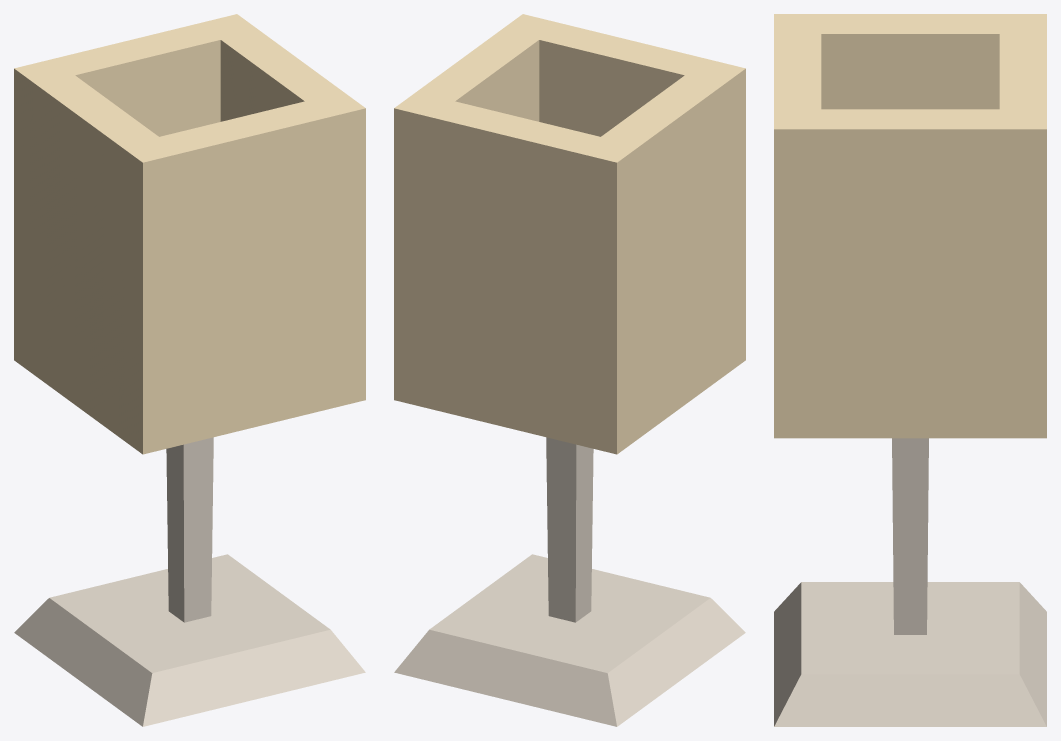
File: kitLampSquareTable.glb
3 renders of one model, left to right at view 1: azimuth 30°, elevation 25°; view 2: azimuth 150°, elevation 25°; view 3: azimuth 270°, elevation 25°, orthographic. The views are drawn at different scales.
Visible parts, largest first — view 1: kitLampSquareTable_glow, kitLampSquareTable_metal; view 2: kitLampSquareTable_glow, kitLampSquareTable_metal; view 3: kitLampSquareTable_glow, kitLampSquareTable_metal.
Boxes of the visible parts, bbox=[...] form: kitLampSquareTable_glow: bbox=[14, 14, 365, 454]; kitLampSquareTable_metal: bbox=[14, 437, 365, 726]; kitLampSquareTable_glow: bbox=[394, 14, 745, 454]; kitLampSquareTable_metal: bbox=[394, 437, 745, 726]; kitLampSquareTable_glow: bbox=[774, 14, 1046, 438]; kitLampSquareTable_metal: bbox=[774, 438, 1046, 726].
Bounding box in the file's own units: 0.24 × 0.58 × 0.24.
